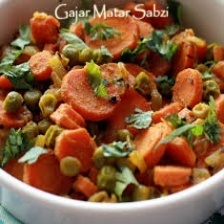sabzi: (0, 0, 224, 209)
